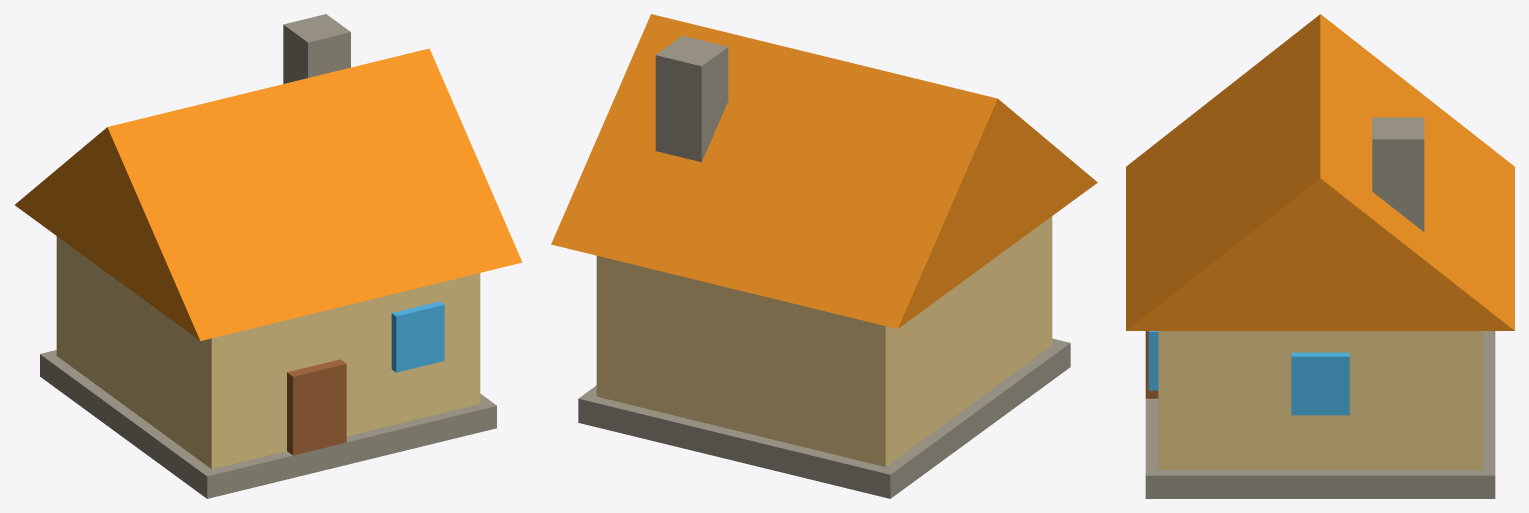
Rendered from house_t1_v1.glb.
3 renders of one model, left to right at view 1: azimuth 30°, elevation 25°; view 2: azimuth 150°, elevation 25°; view 3: azimuth 270°, elevation 25°, orthographic. The views are drawn at different scales.
Visible parts, largest first — view 1: house_t1_v1; view 2: house_t1_v1; view 3: house_t1_v1.
Part boxes in pixels (<box>): house_t1_v1: <box>15,14,522,498</box>; house_t1_v1: <box>551,14,1097,498</box>; house_t1_v1: <box>1126,14,1514,498</box>.
Size of the model in its own units: 0.6 by 0.58 by 0.6.
Materials: 1 (1 with a texture image).
